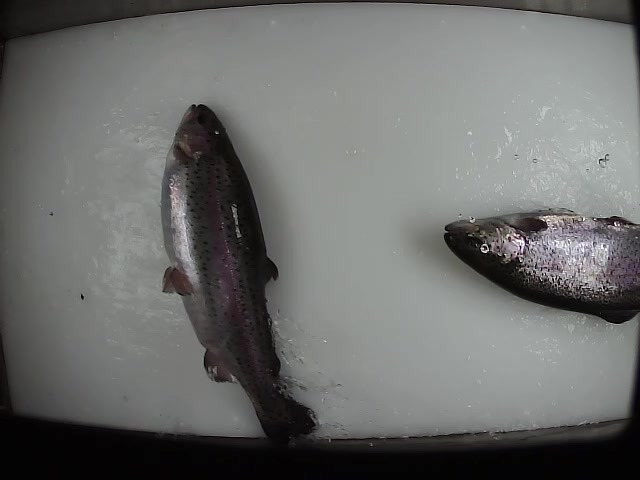fish: (158, 99, 320, 449), (440, 203, 640, 326)
